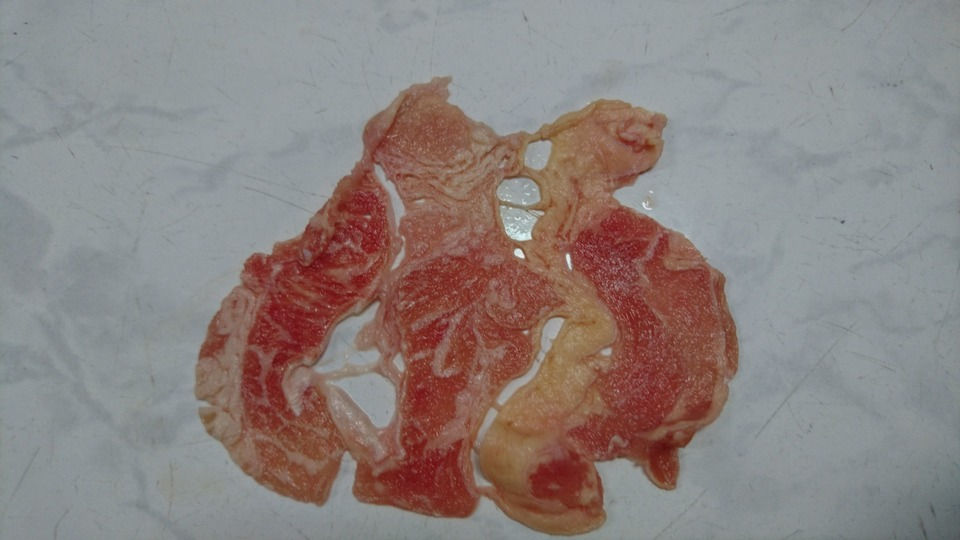restructured meat: (199, 45, 751, 524)
